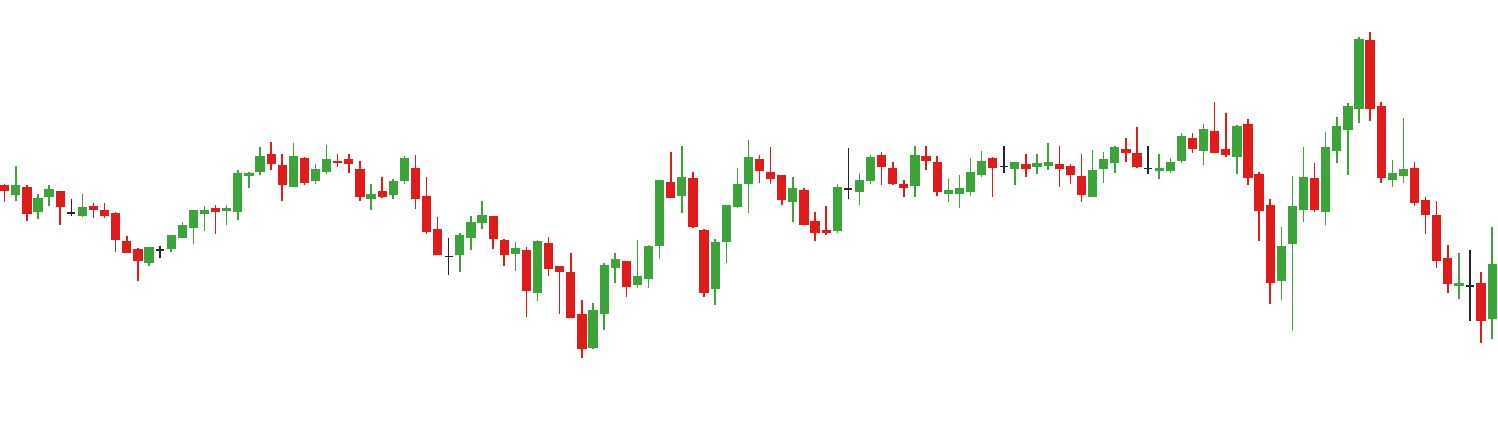buy: (700, 192, 1299, 331), (520, 261, 600, 363)
